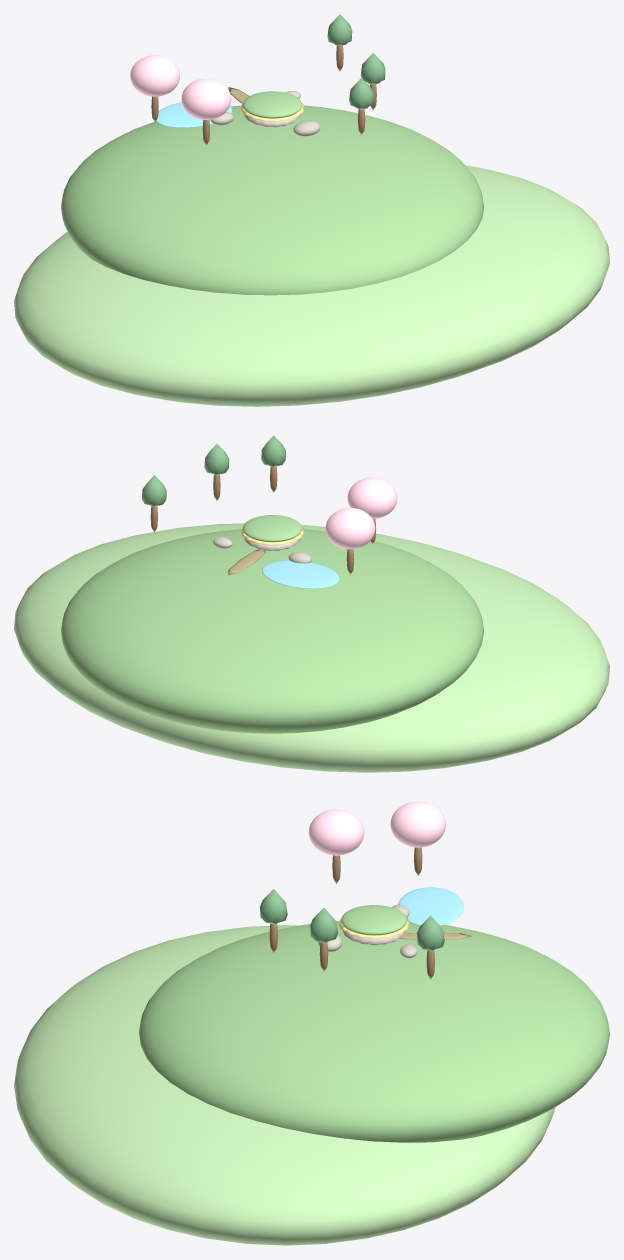
Rendered from glen_stage.glb.
3 views of the same model, one above another, from view 1: azimuth 30°, elevation 25°; view 2: azimuth 150°, elevation 25°; view 3: azimuth 270°, elevation 25° (orthographic). The views are drawn at different scales.
Visible parts, largest first — view 1: glen_stage; view 2: glen_stage; view 3: glen_stage.
Boxes of the visible parts, x1,y1,x2,y2 form: glen_stage: (14,14,609,406); glen_stage: (14,435,609,772); glen_stage: (14,801,609,1245).
Size of the model in its own units: 11.15 by 5.11 by 9.49.
